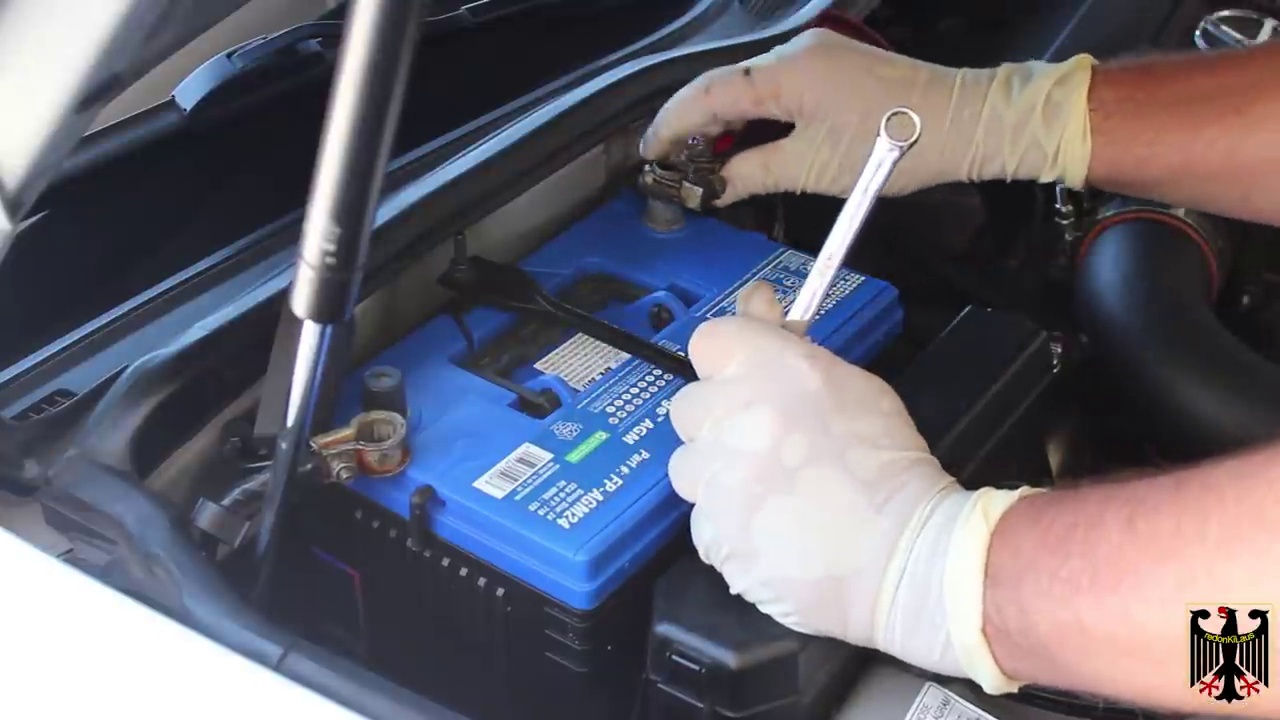battery: (314, 170, 908, 564)
